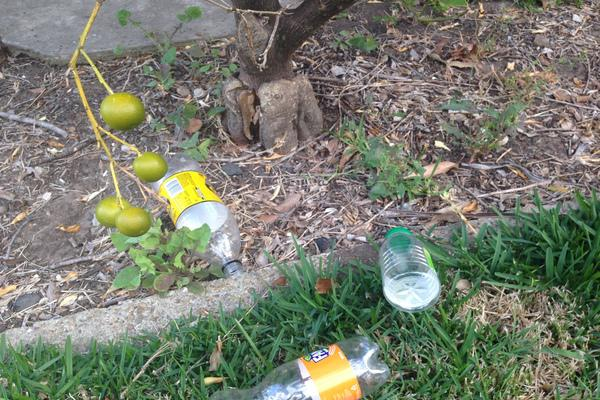Plastic Bottle: (148, 156, 244, 279), (207, 336, 391, 400), (380, 227, 441, 312)
